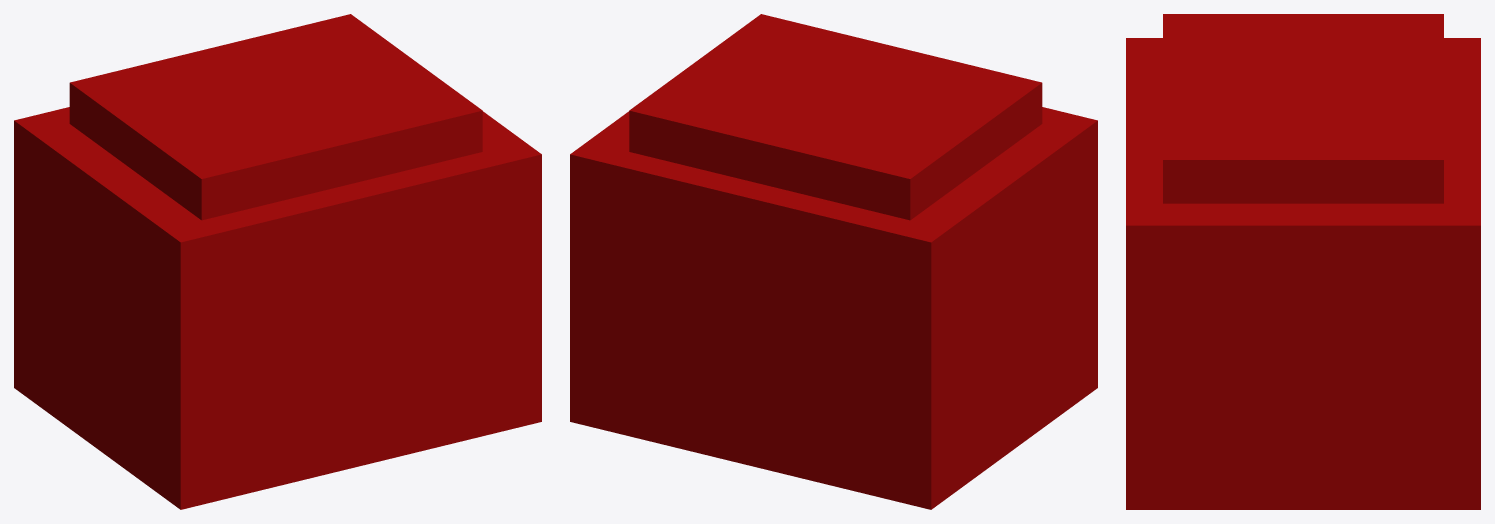
File: Hotel.fbx
3 renders of one model, left to right at view 1: azimuth 30°, elevation 25°; view 2: azimuth 150°, elevation 25°; view 3: azimuth 270°, elevation 25°, orthographic. The views are drawn at different scales.
Visible parts, largest first — view 1: Hotel; view 2: Hotel; view 3: Hotel.
Part boxes in pixels (bbox=[...]): Hotel: bbox=[14, 14, 541, 509]; Hotel: bbox=[570, 14, 1097, 509]; Hotel: bbox=[1126, 14, 1480, 509].
Size of the model in its own units: 61.21 by 49.99 by 48.94.
